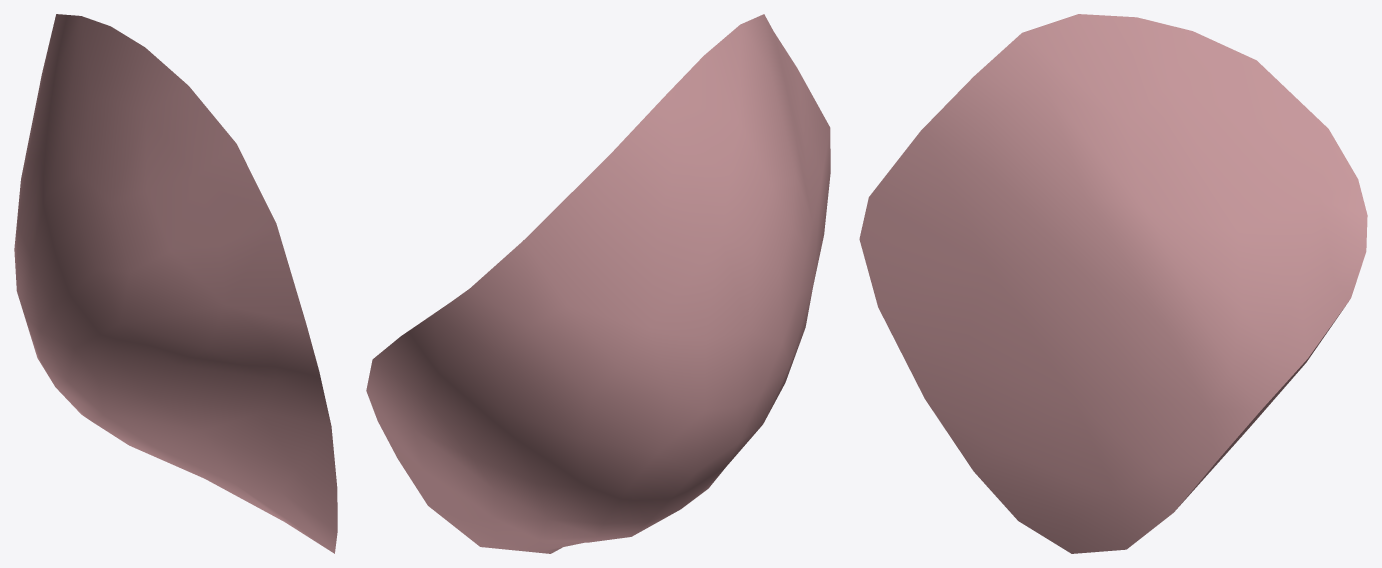
Rendered from fma49470_mm1605.glb.
3 views of the same model, side by side, from view 1: azimuth 30°, elevation 25°; view 2: azimuth 150°, elevation 25°; view 3: azimuth 270°, elevation 25° (orthographic). The views are drawn at different scales.
Parts seen in each view (by area): view 1: FMA49470_MM1605; view 2: FMA49470_MM1605; view 3: FMA49470_MM1605.
Part boxes in pixels (x1,y1,x2,y2): FMA49470_MM1605: (14,14,337,553); FMA49470_MM1605: (366,14,830,553); FMA49470_MM1605: (859,14,1367,553).
Bounding box in the file's own units: 0.0107 × 0.0182 × 0.0181.
